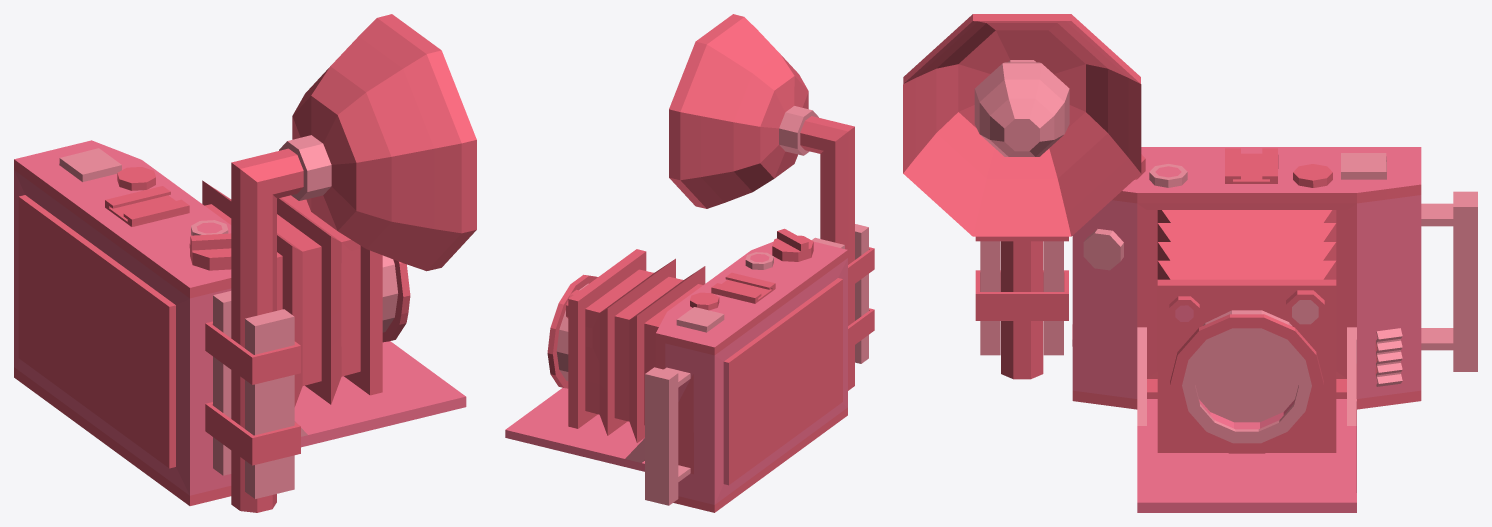
The model's file is Camera.fbx.
3 renders of one model, left to right at view 1: azimuth 30°, elevation 25°; view 2: azimuth 150°, elevation 25°; view 3: azimuth 270°, elevation 25°, orthographic. The views are drawn at different scales.
Visible parts, largest first — view 1: Camera.001, Flash; view 2: Camera.001, Flash, Camera; view 3: Camera.001, Flash, Camera.
Part boxes in pixels (bbox=[...]): Camera.001: bbox=[14, 140, 466, 505]; Flash: bbox=[205, 14, 476, 512]; Camera.001: bbox=[505, 228, 847, 512]; Flash: bbox=[669, 14, 874, 390]; Camera: bbox=[645, 367, 690, 505]; Camera.001: bbox=[1072, 147, 1421, 512]; Flash: bbox=[903, 14, 1141, 379]; Camera: bbox=[1421, 191, 1477, 371].
Size of the model in its own units: 501 by 672 by 796.
